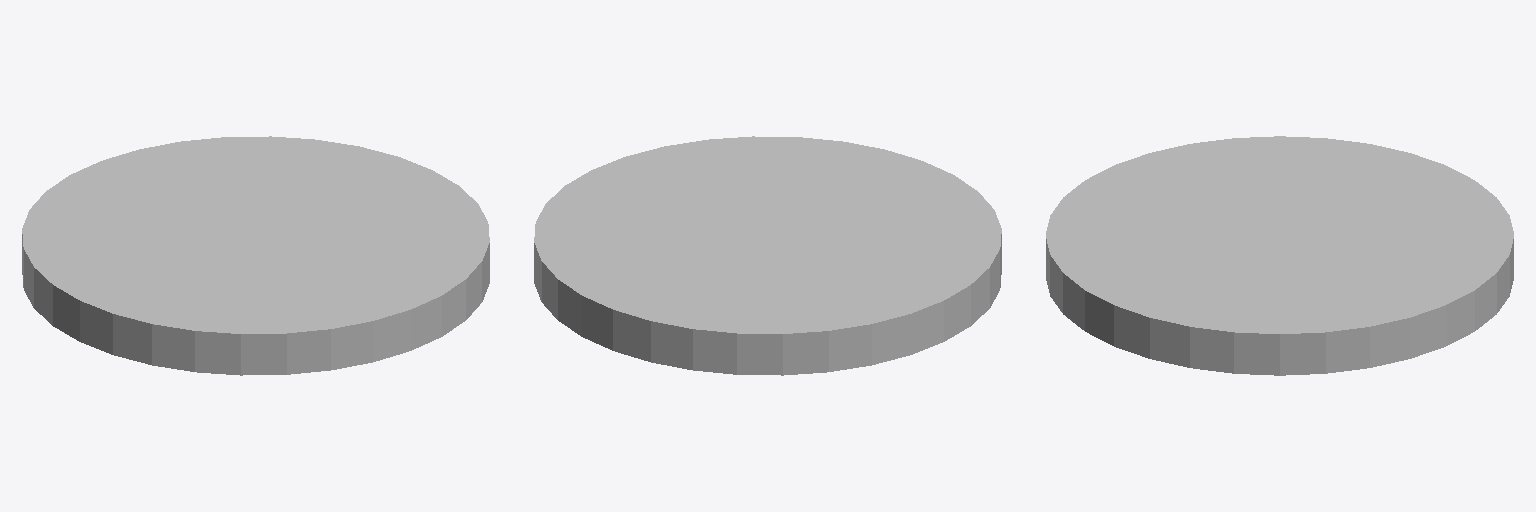
The model's file is chip.obj.
3 renders of one model, left to right at view 1: azimuth 30°, elevation 25°; view 2: azimuth 150°, elevation 25°; view 3: azimuth 270°, elevation 25°, orthographic.
Parts seen in each view (by area): view 1: Circle; view 2: Circle; view 3: Circle.
Part boxes in pixels (x1,y1,x2,y2): Circle: (22,136,489,375); Circle: (534,136,1001,375); Circle: (1046,136,1513,375).
Bounding box in the file's own units: 2 × 0.1947 × 2.